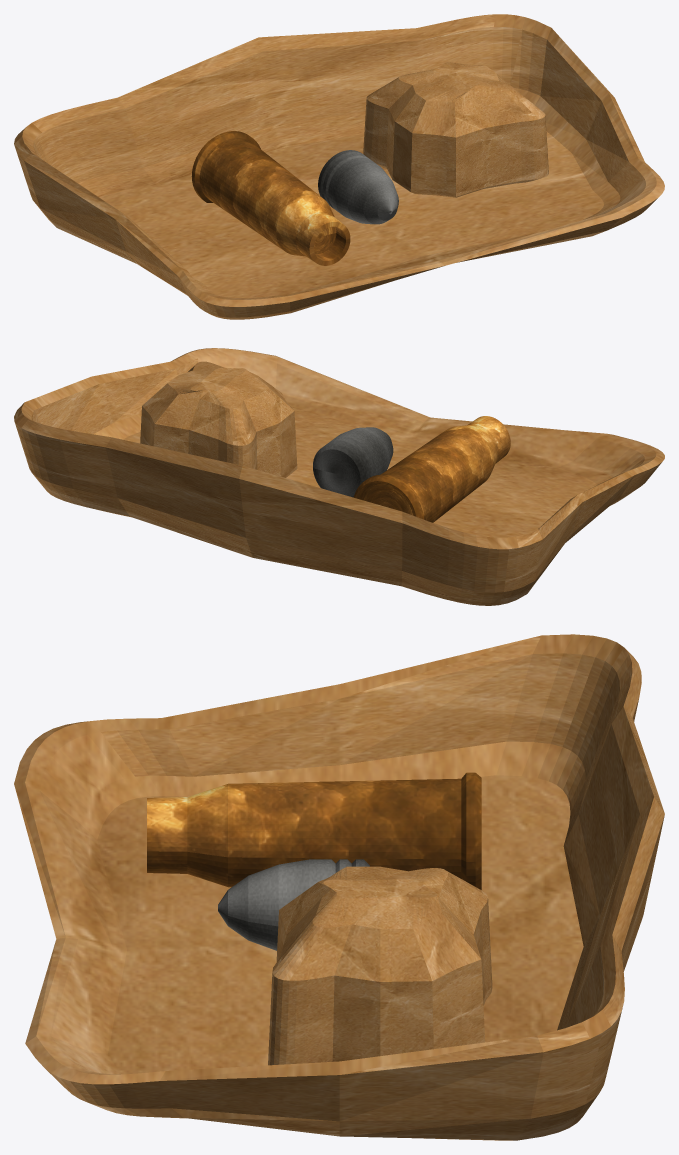
Rendered from carbine_kit.obj.
The picture shows the model from 3 angles, top to bottom: view 1: azimuth 30°, elevation 25°; view 2: azimuth 150°, elevation 25°; view 3: azimuth 270°, elevation 25°; orthographic projection. The views are drawn at different scales.
Parts seen in each view (by area): view 1: wrapper, sealed_packet, case, projectile; view 2: wrapper, sealed_packet, case, projectile; view 3: wrapper, sealed_packet, case, projectile.
Part boxes in pixels (x1,y1,x2,y2): wrapper: (14,14,664,319); sealed_packet: (363,62,548,197); case: (191,131,350,265); projectile: (318,150,398,224); wrapper: (14,348,664,605); sealed_packet: (140,361,297,477); case: (353,416,510,522); projectile: (313,427,393,497); wrapper: (14,634,664,1140); sealed_packet: (268,866,492,1065); case: (147,772,481,889); projectile: (218,859,369,950).
Bounding box in the file's own units: 111 × 21.69 × 74.64.
Materials: 3 (3 with a texture image).
